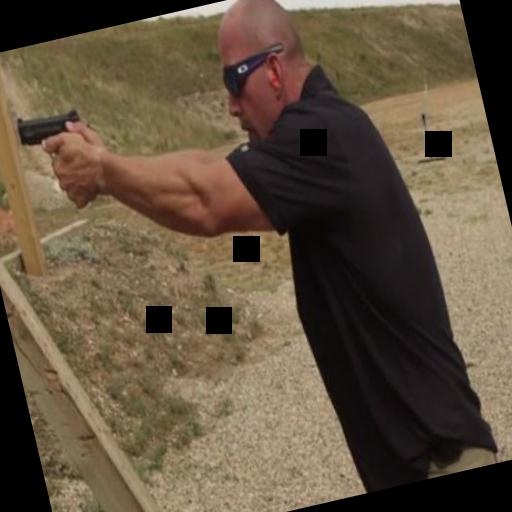Handgun: (12, 104, 101, 215)
